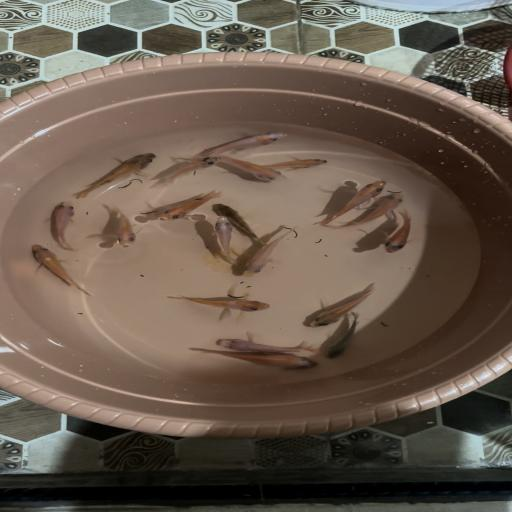nila: (72, 151, 158, 201), (186, 344, 323, 372), (237, 222, 304, 278), (28, 242, 97, 296), (315, 175, 389, 225), (304, 282, 382, 328), (338, 190, 406, 234), (162, 290, 272, 316), (156, 186, 225, 224), (209, 202, 268, 245), (202, 129, 290, 157), (220, 153, 292, 185), (324, 310, 370, 360), (44, 196, 83, 252), (377, 210, 425, 254), (156, 154, 221, 186), (208, 337, 318, 354), (209, 214, 243, 266), (109, 202, 144, 250), (267, 152, 331, 172)
